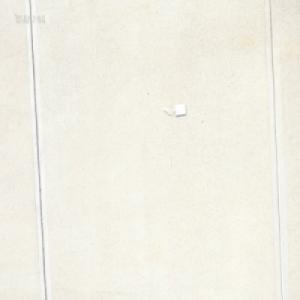LuggageTag: (163, 101, 186, 118)
